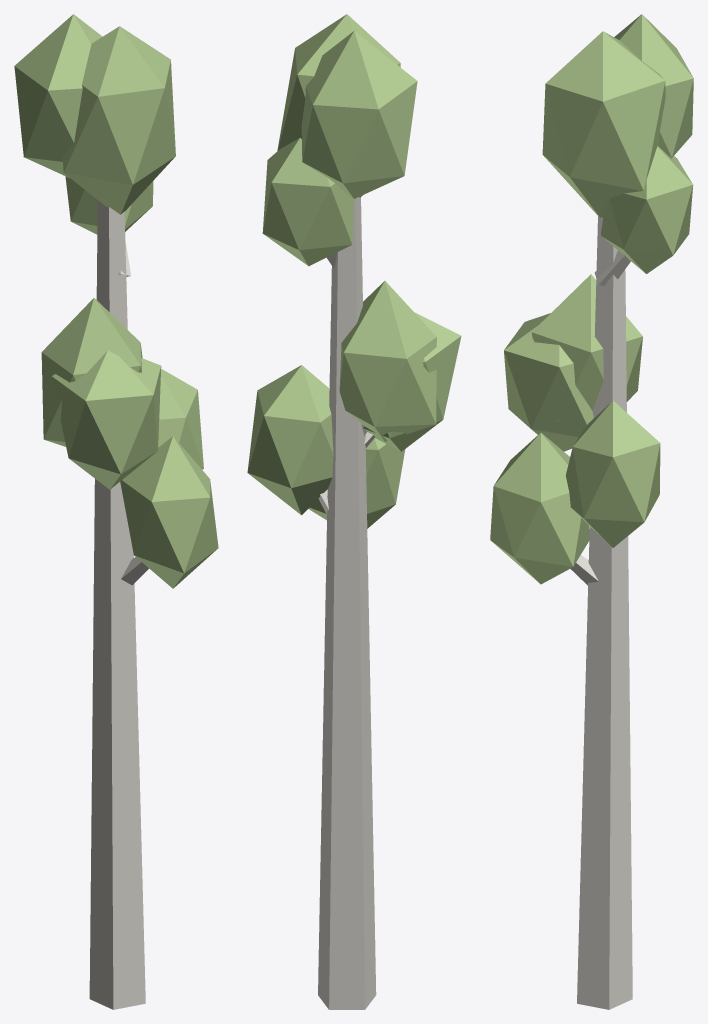
File: arv_betula_3_sem_textura.glb
3 views of the same model, side by side, from view 1: azimuth 30°, elevation 25°; view 2: azimuth 150°, elevation 25°; view 3: azimuth 270°, elevation 25° (orthographic).
Parts seen in each view (by area): view 1: arv_betula_3; view 2: arv_betula_3; view 3: arv_betula_3.
Boxes of the visible parts, left/top/right/bottom form: arv_betula_3: left=14, top=14, right=218, bottom=1009; arv_betula_3: left=247, top=14, right=461, bottom=1009; arv_betula_3: left=490, top=14, right=693, bottom=1009.
Size of the model in its own units: 0.411 by 2.32 by 0.4406.
